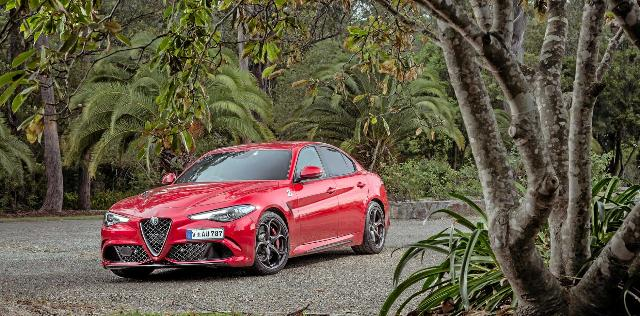alpha-romeo: (100, 140, 390, 280)
